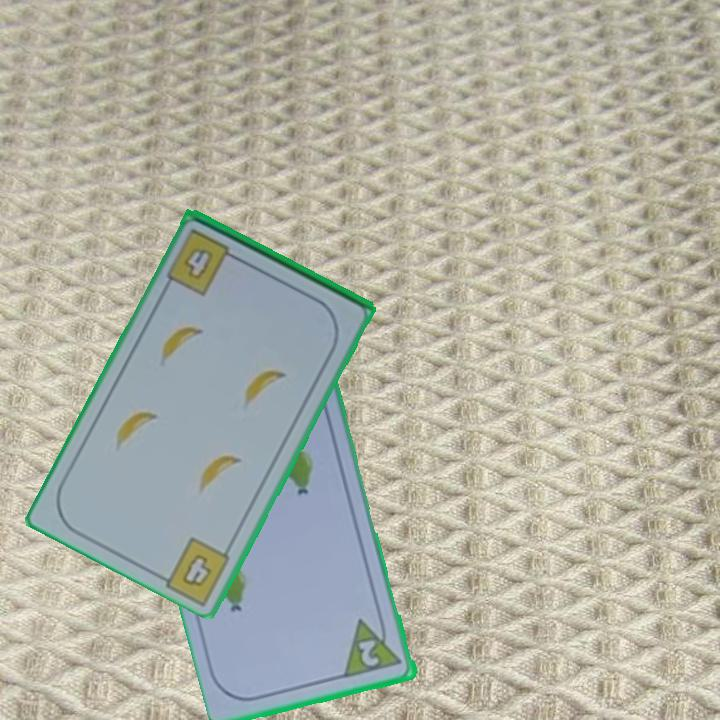2p: (341, 611, 406, 682)
4b: (167, 225, 244, 298), (178, 550, 215, 590)
